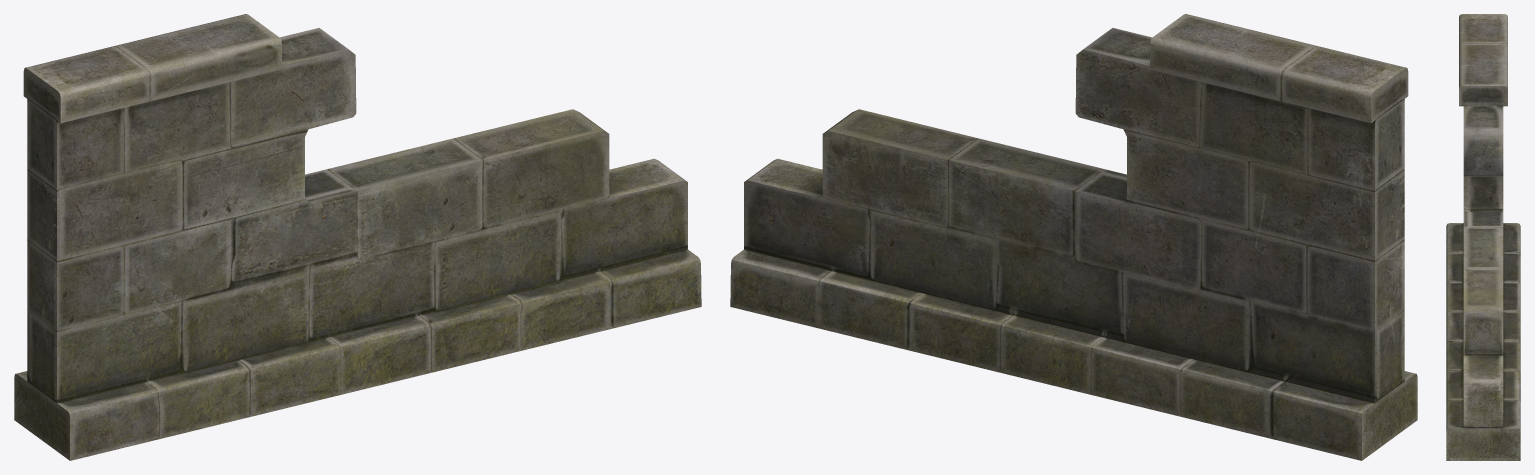
Rendered from ruined-wall.glb.
3 views of the same model, side by side, from view 1: azimuth 30°, elevation 25°; view 2: azimuth 150°, elevation 25°; view 3: azimuth 270°, elevation 25° (orthographic). The views are drawn at different scales.
Visible parts, largest first — view 1: ruined_wall; view 2: ruined_wall; view 3: ruined_wall.
Boxes of the visible parts, bbox=[...] form: ruined_wall: bbox=[14, 14, 701, 460]; ruined_wall: bbox=[730, 14, 1417, 460]; ruined_wall: bbox=[1446, 14, 1520, 460].
Size of the model in its own units: 4.91 by 2.68 by 0.7509.
Materials: 1 (1 with a texture image).
